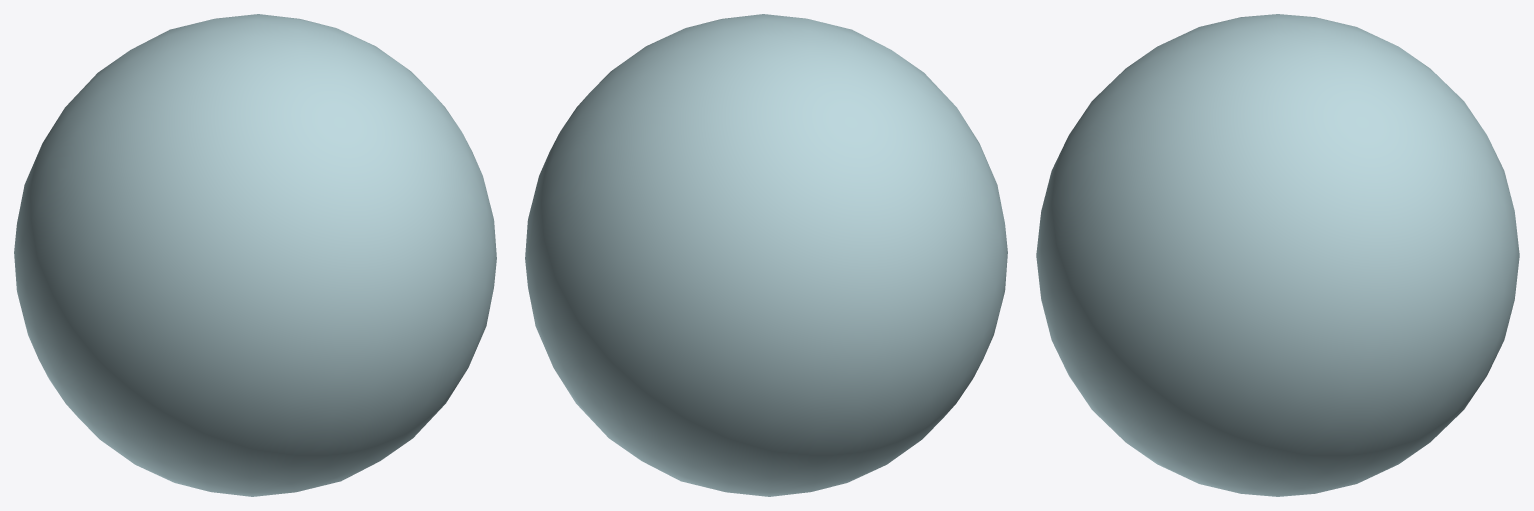
Rendered from core.glb.
3 views of the same model, side by side, from view 1: azimuth 30°, elevation 25°; view 2: azimuth 150°, elevation 25°; view 3: azimuth 270°, elevation 25° (orthographic).
Visible parts, largest first — view 1: Core_Shell; view 2: Core_Shell; view 3: Core_Shell.
Part boxes in pixels (bbox=[...]): Core_Shell: bbox=[14, 14, 496, 496]; Core_Shell: bbox=[525, 14, 1007, 496]; Core_Shell: bbox=[1036, 14, 1519, 496].
Size of the model in its own units: 1.1 by 1.1 by 1.1.
